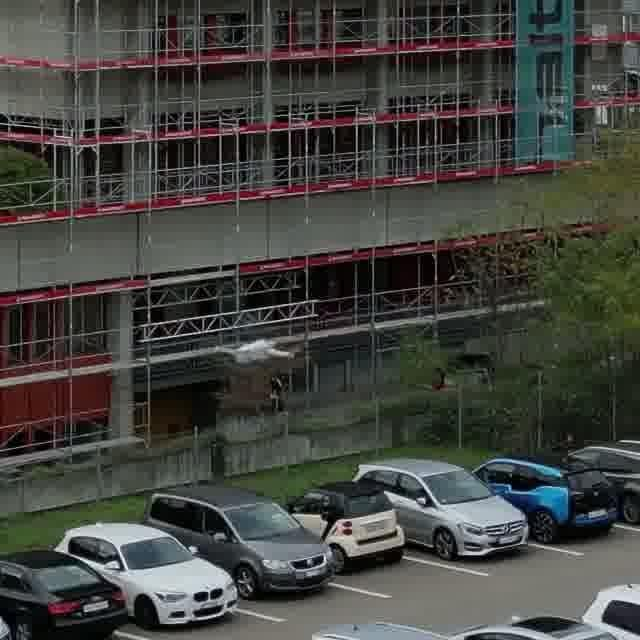Drohne: (216, 339, 293, 363)
